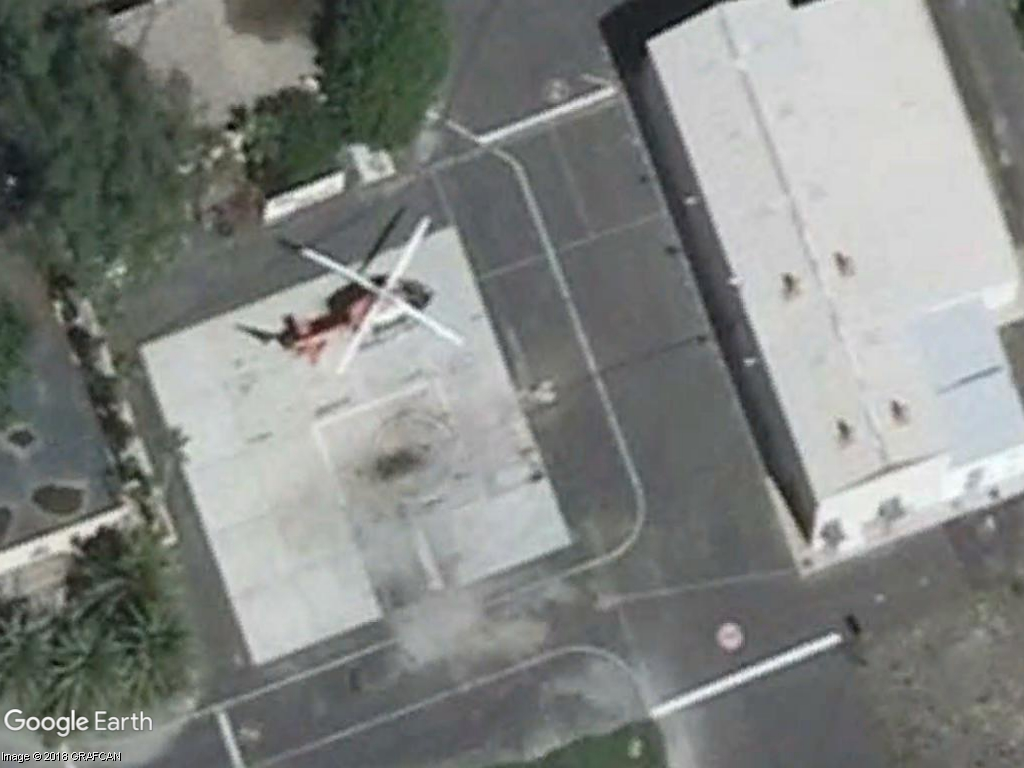helicopter: (278, 223, 472, 381)
